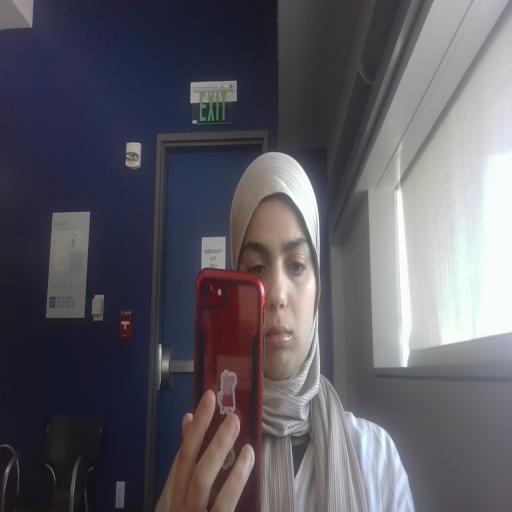phone: (173, 247, 350, 512)
